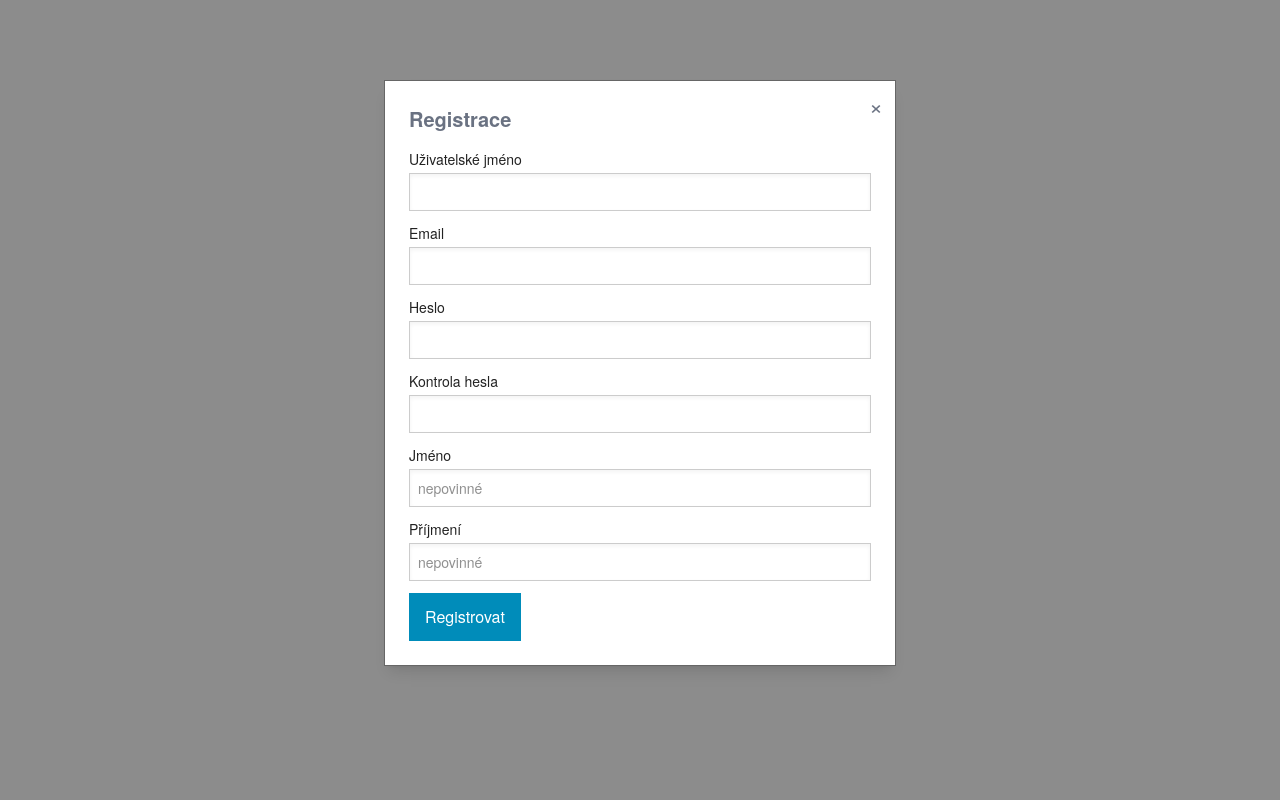
it: signup does not log in and asks to confirm the e-mail
Step 1. Type "novy" into the field labelled "Uživatelské jméno" → {"x": 640, "y": 192}, box [409,173,871,211]
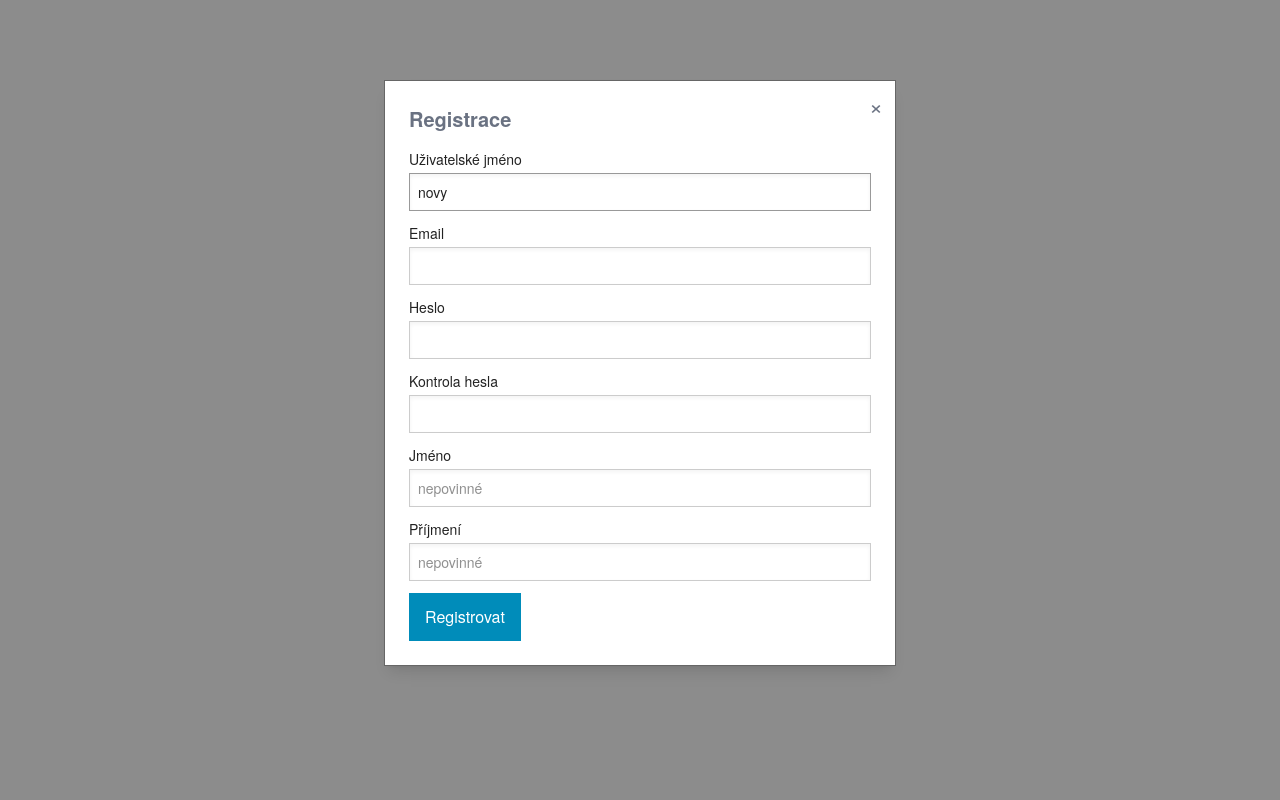
Step 2. Type "novy@example.cz" into the field labelled "Email" → {"x": 640, "y": 266}, box [409,247,871,285]
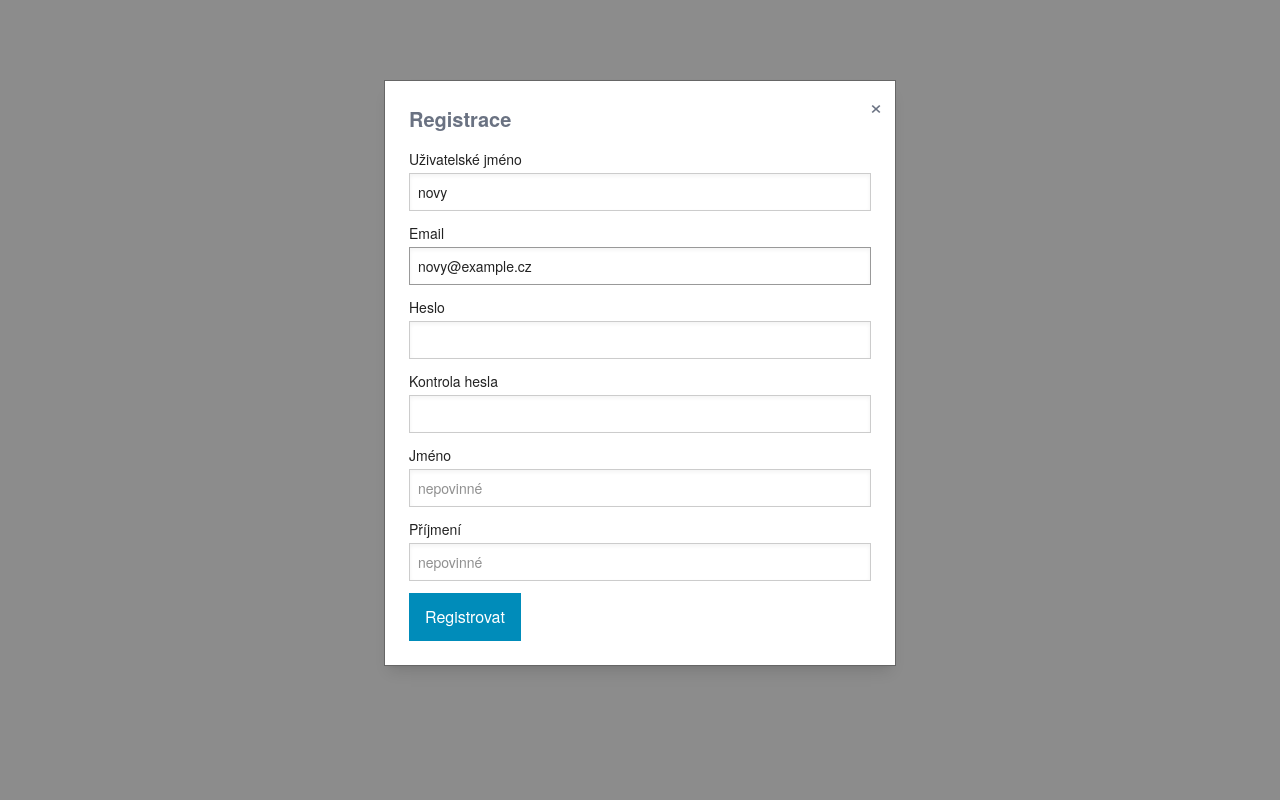
Step 3. Type "Ufobal-heslo-2026" into the password field labelled "Heslo" → {"x": 640, "y": 340}, box [409,321,871,359]
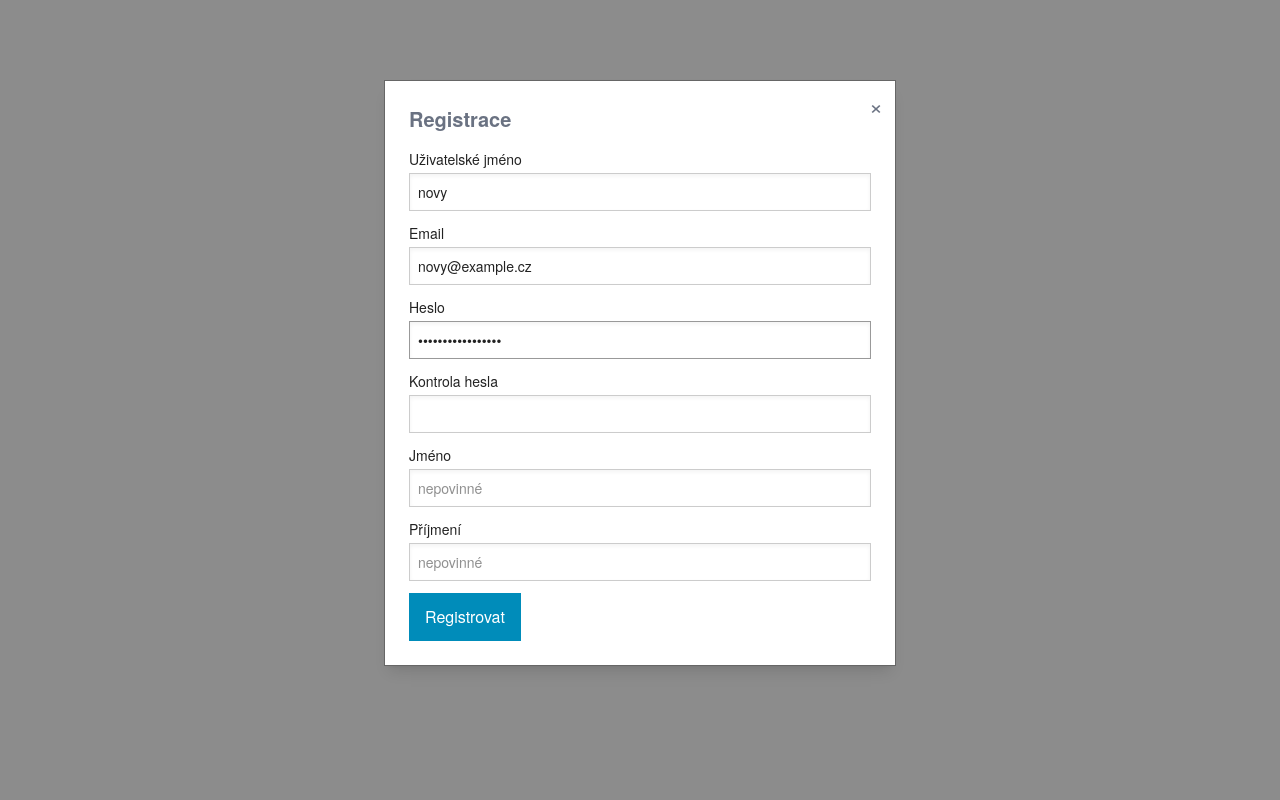
Step 4. Type "Ufobal-heslo-2026" into the password field labelled "Kontrola hesla" → {"x": 640, "y": 414}, box [409,395,871,433]
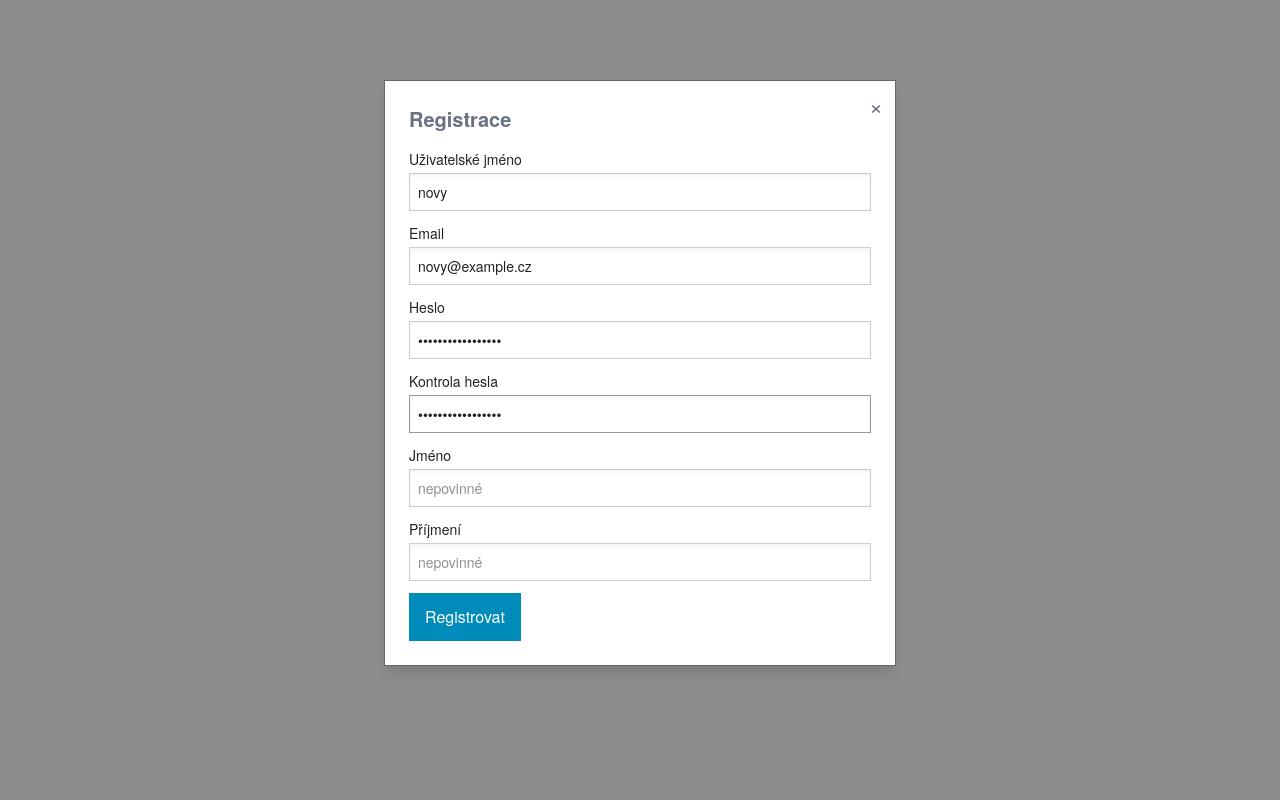
Step 5. Click the button "Registrovat" → {"x": 465, "y": 617}, box [409,593,521,641]
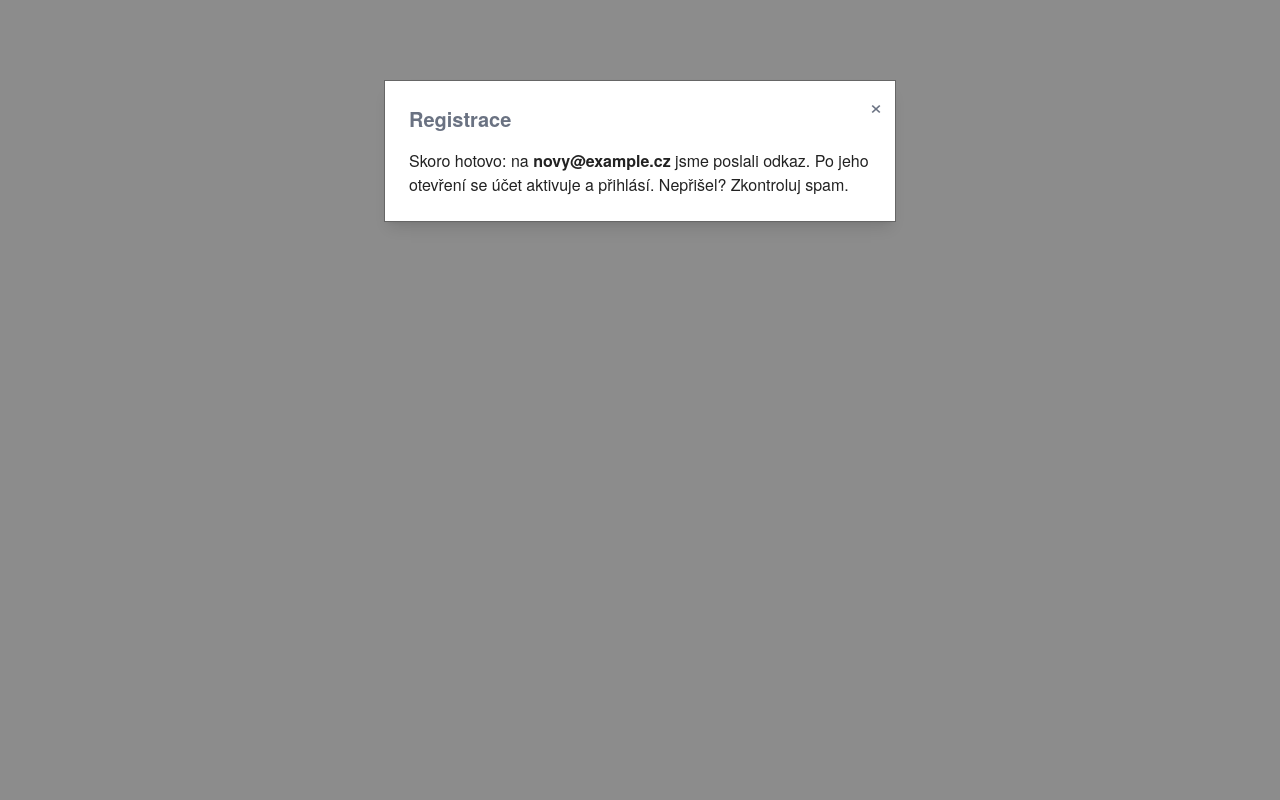
Expected: the message shows "na novy@example.cz jsme poslali odkaz", [409,149,871,197]
